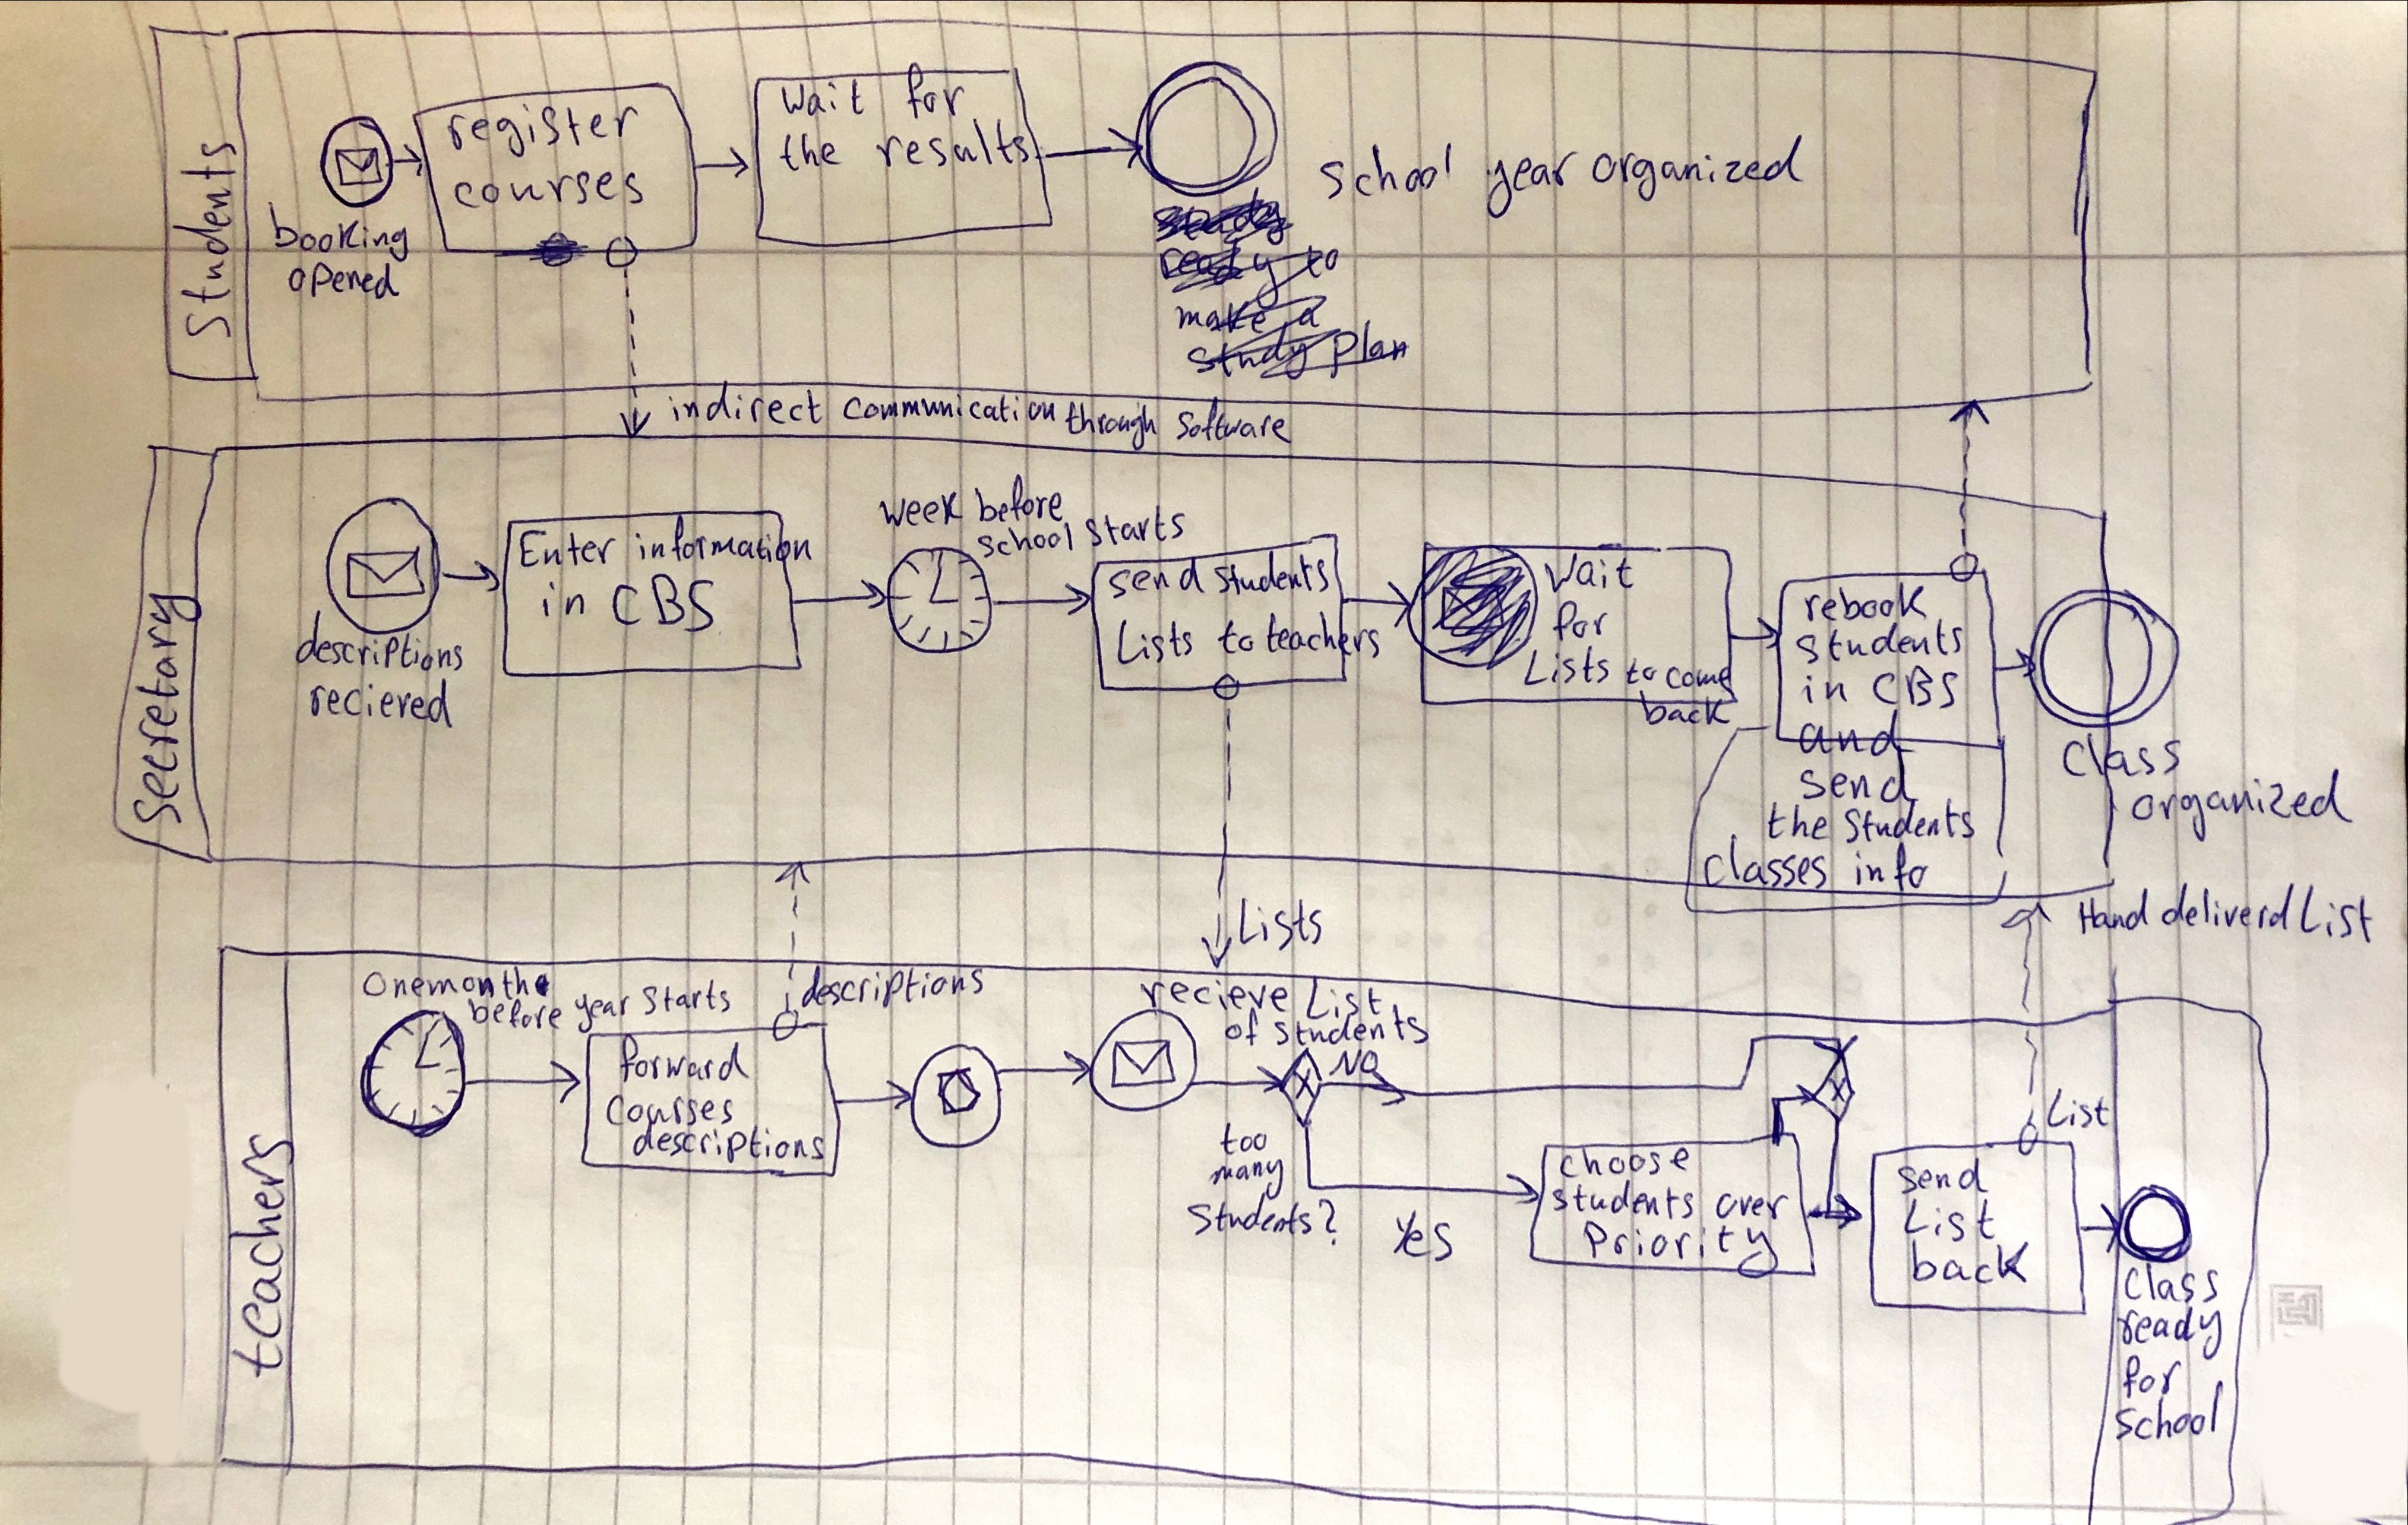CBS: (596, 575, 716, 630), (1860, 666, 1956, 710)
Enter: (514, 526, 621, 574)
Hand: (2071, 879, 2151, 952)
List: (2042, 1087, 2116, 1140)
Lists: (1226, 896, 1328, 962), (1519, 648, 1611, 690)
NO: (1330, 1047, 1383, 1087)
Onemonth: (360, 967, 533, 1004)
Priority: (1579, 1222, 1787, 1284)
Secretary: (126, 588, 209, 837)
Send: (1889, 1158, 1974, 1197)
Students: (178, 144, 241, 344), (1835, 801, 1980, 845)
Students?: (1185, 1200, 1338, 1249)
Yes: (1382, 1207, 1452, 1264)
and: (1791, 710, 1913, 758)
back: (1907, 1242, 2014, 1286), (1636, 695, 1720, 729)
before: (965, 470, 1069, 529), (464, 992, 560, 1032)
booking: (265, 197, 412, 258)
choose: (1559, 1145, 1686, 1182)
class: (2057, 735, 2183, 783), (2119, 1264, 2221, 1306)
classes: (1700, 841, 1835, 894)
come: (1658, 654, 1743, 698)
communication: (834, 389, 1054, 437)
courses: (451, 165, 647, 214), (604, 1092, 735, 1128)
deliverd: (2159, 879, 2299, 952)
descriptions: (290, 605, 468, 678), (794, 963, 990, 1016), (628, 1125, 835, 1165)
for: (893, 62, 982, 120), (1548, 600, 1613, 644), (2118, 1353, 2179, 1397)
forward: (603, 1038, 744, 1089)
in: (533, 576, 587, 628), (1795, 670, 1839, 710)
indirect: (658, 379, 824, 432)
info: (1844, 848, 1932, 896)
information: (636, 511, 816, 569)
list: (2291, 877, 2377, 951), (1894, 1196, 2000, 1242), (1300, 982, 1392, 1026)
lists: (1108, 619, 1198, 671)
many: (1208, 1155, 1282, 1190)
of: (1221, 1014, 1264, 1049)
opened: (285, 262, 396, 303)
organized: (1584, 129, 1812, 203), (2121, 770, 2359, 830)
over: (1712, 1187, 1788, 1223)
ready: (2115, 1305, 2220, 1349)
rebook: (1797, 585, 1916, 628)
recieve: (1135, 981, 1284, 1018)
recieved: (307, 682, 447, 729)
register: (444, 98, 634, 159)
results: (860, 122, 1030, 173)
school: (1316, 145, 1463, 205), (2109, 1398, 2224, 1444), (976, 519, 1074, 564)
send: (1791, 765, 1899, 806), (1102, 562, 1196, 604)
software: (1165, 398, 1293, 454)
starts: (633, 978, 735, 1027), (1076, 508, 1184, 552)
students: (1790, 619, 1970, 670), (1268, 1005, 1430, 1049), (1206, 553, 1331, 600), (1550, 1182, 1697, 1222)
teachers: (230, 1134, 291, 1380), (1254, 616, 1383, 662)
the: (772, 130, 842, 176), (1762, 802, 1829, 845)
through: (1060, 394, 1159, 444)
to: (1214, 618, 1256, 664), (1617, 652, 1652, 692)
too: (1217, 1125, 1269, 1156)
wait: (1539, 549, 1636, 595), (775, 78, 868, 122)
week: (872, 488, 961, 534)
year: (1471, 143, 1571, 220), (565, 986, 628, 1031)
